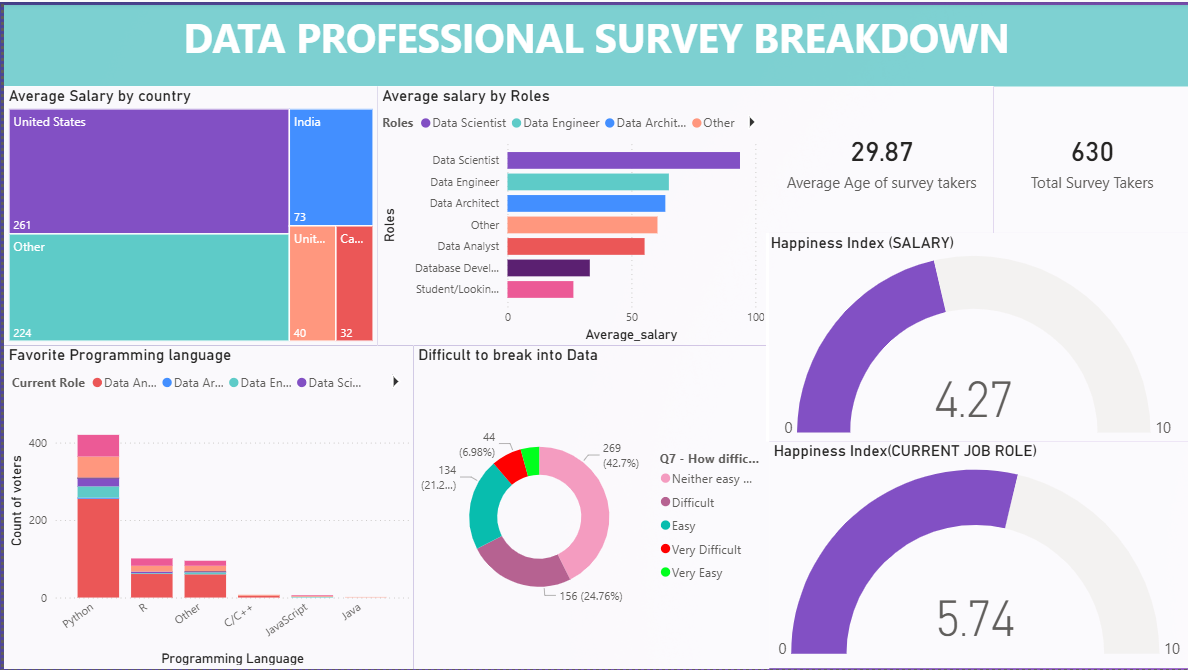

What the dashboard file says about the page in this screenshot:
{"tool":"powerbi","page":{"name":"Page 1","canvas":[1280,720],"ordinal":0},"visuals":[{"type":"card","fields":{"Values":["Count(Data Professional Survey.Unique ID)"]},"box":[1068.6,90.6,211.3,158.5],"z":0},{"type":"textbox","box":[0.5,2.5,1279.4,88],"z":1},{"type":"card","fields":{"Values":["Avg(Data Professional Survey.Q10 - Current Age)"]},"box":[826,90.6,242.6,158.5],"z":2},{"type":"barChart","title":"Average salary by Roles","fields":{"Y":["Avg(Data Professional Survey.Average_salary)"],"Category":["Data Professional Survey.Q1 - Which Title Best Fits your Current Role?"],"Series":["Data Professional Survey.Q1 - Which Title Best Fits your Current Role?"]},"box":[403.5,90.4,422.6,280.1],"z":3},{"type":"columnChart","title":"Favorite Programming language","fields":{"Y":["CountNonNull(Data Professional Survey.Unique ID)"],"Category":["Data Professional Survey.Q5 - Favorite Programming Language"],"Series":["Data Professional Survey.Q1 - Which Title Best Fits your Current Role?"]},"box":[0.3,370.5,442,349.8],"z":4},{"type":"gauge","title":"Happiness Index (SALARY)","fields":{"Y":["Avg(Data Professional Survey.Q6 - How Happy are you in your Current Position with the following? (Salary))"],"MinValue":["Min(Data Professional Survey.Q6 - How Happy are you in your Current Position with the following? (Salary))1"],"MaxValue":["Max(Data Professional Survey.Q6 - How Happy are you in your Current Position with the following? (Salary))2"]},"box":[822.6,249.4,456.6,225.1],"z":5},{"type":"gauge","title":"Happiness Index(CURRENT JOB ROLE)","fields":{"Y":["Avg(Data Professional Survey.Q6 - How Happy are you in your Current Position with the following? (Work/Life Balance))"],"MinValue":["Min(Data Professional Survey.Q6 - How Happy are you in your Current Position with the following? (Work/Life Balance))1"],"MaxValue":["Max(Data Professional Survey.Q6 - How Happy are you in your Current Position with the following? (Work/Life Balance))2"]},"box":[826,475.1,453.4,244.5],"z":6},{"type":"treemap","title":"Average Salary by country","fields":{"Group":["Data Professional Survey.Q11 - Which Country do you live in?"],"Values":["CountNonNull(Data Professional Survey.Q11 - Which Country do you live in?)"]},"box":[0,90.7,403.2,280.1],"z":7},{"type":"donutChart","title":"Difficult to break into Data","fields":{"Category":["Data Professional Survey.Q7 - How difficult was it for you to break into Data?"],"Y":["CountNonNull(Data Professional Survey.Q7 - How difficult was it for you to break into Data?)"]},"box":[442.4,370.5,383.8,349.8],"z":8}]}

Visuals, with their boxes in screenshot pixels (x1, y1, x2, y2), scaled from the page's 1280x720 canvas onto the 1188x670 screenshot:
card - Count(Data Professional Survey.Unique ID): region(992, 84, 1187, 232)
textbox: region(0, 2, 1187, 84)
card - Avg(Data Professional Survey.Q10 - Current Age): region(767, 84, 992, 232)
"Average salary by Roles" barChart: region(374, 84, 767, 345)
"Favorite Programming language" columnChart: region(0, 345, 411, 669)
"Happiness Index (SALARY)" gauge: region(763, 232, 1187, 442)
"Happiness Index(CURRENT JOB ROLE)" gauge: region(767, 442, 1187, 669)
"Average Salary by country" treemap: region(0, 84, 374, 345)
"Difficult to break into Data" donutChart: region(411, 345, 767, 669)
